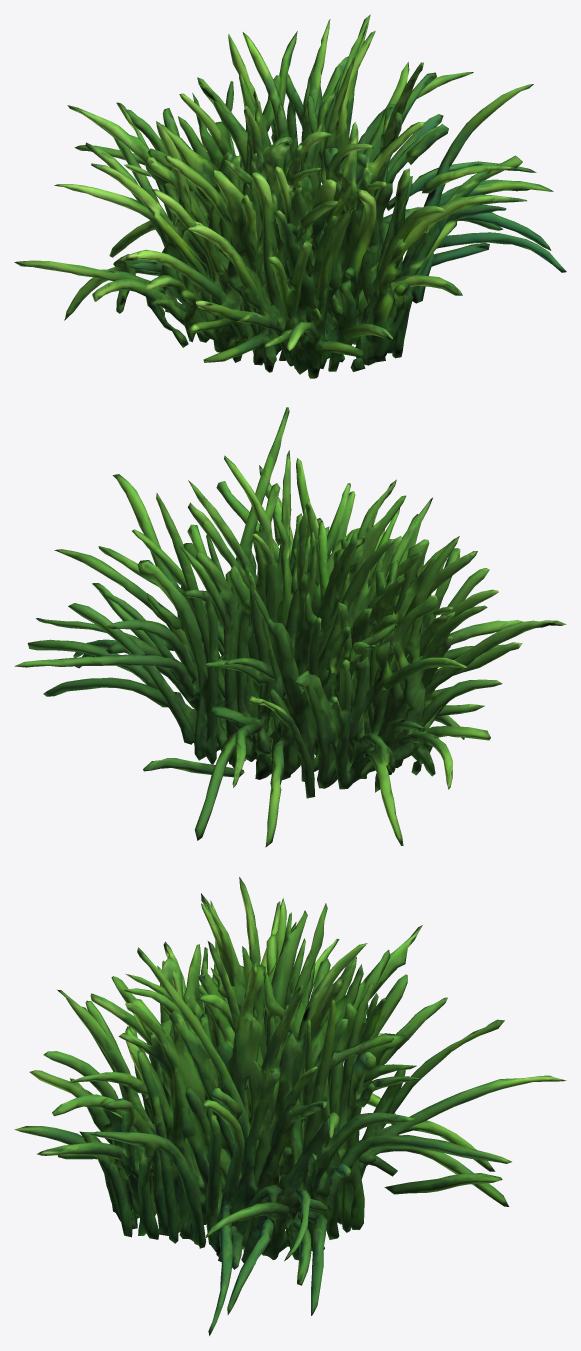
File: AI_StylizedGrassClump.fbx
3 views of the same model, one above another, from view 1: azimuth 30°, elevation 25°; view 2: azimuth 150°, elevation 25°; view 3: azimuth 270°, elevation 25° (orthographic). The views are drawn at different scales.
Visible parts, largest first — view 1: Mesh1; view 2: Mesh1; view 3: Mesh1.
Boxes of the visible parts, box(x1,y1,x2,y2) form: Mesh1: box(14, 14, 566, 378); Mesh1: box(14, 407, 566, 847); Mesh1: box(14, 877, 566, 1335).
Size of the model in its own units: 191 by 112 by 181.
1 material, 1 textured.
